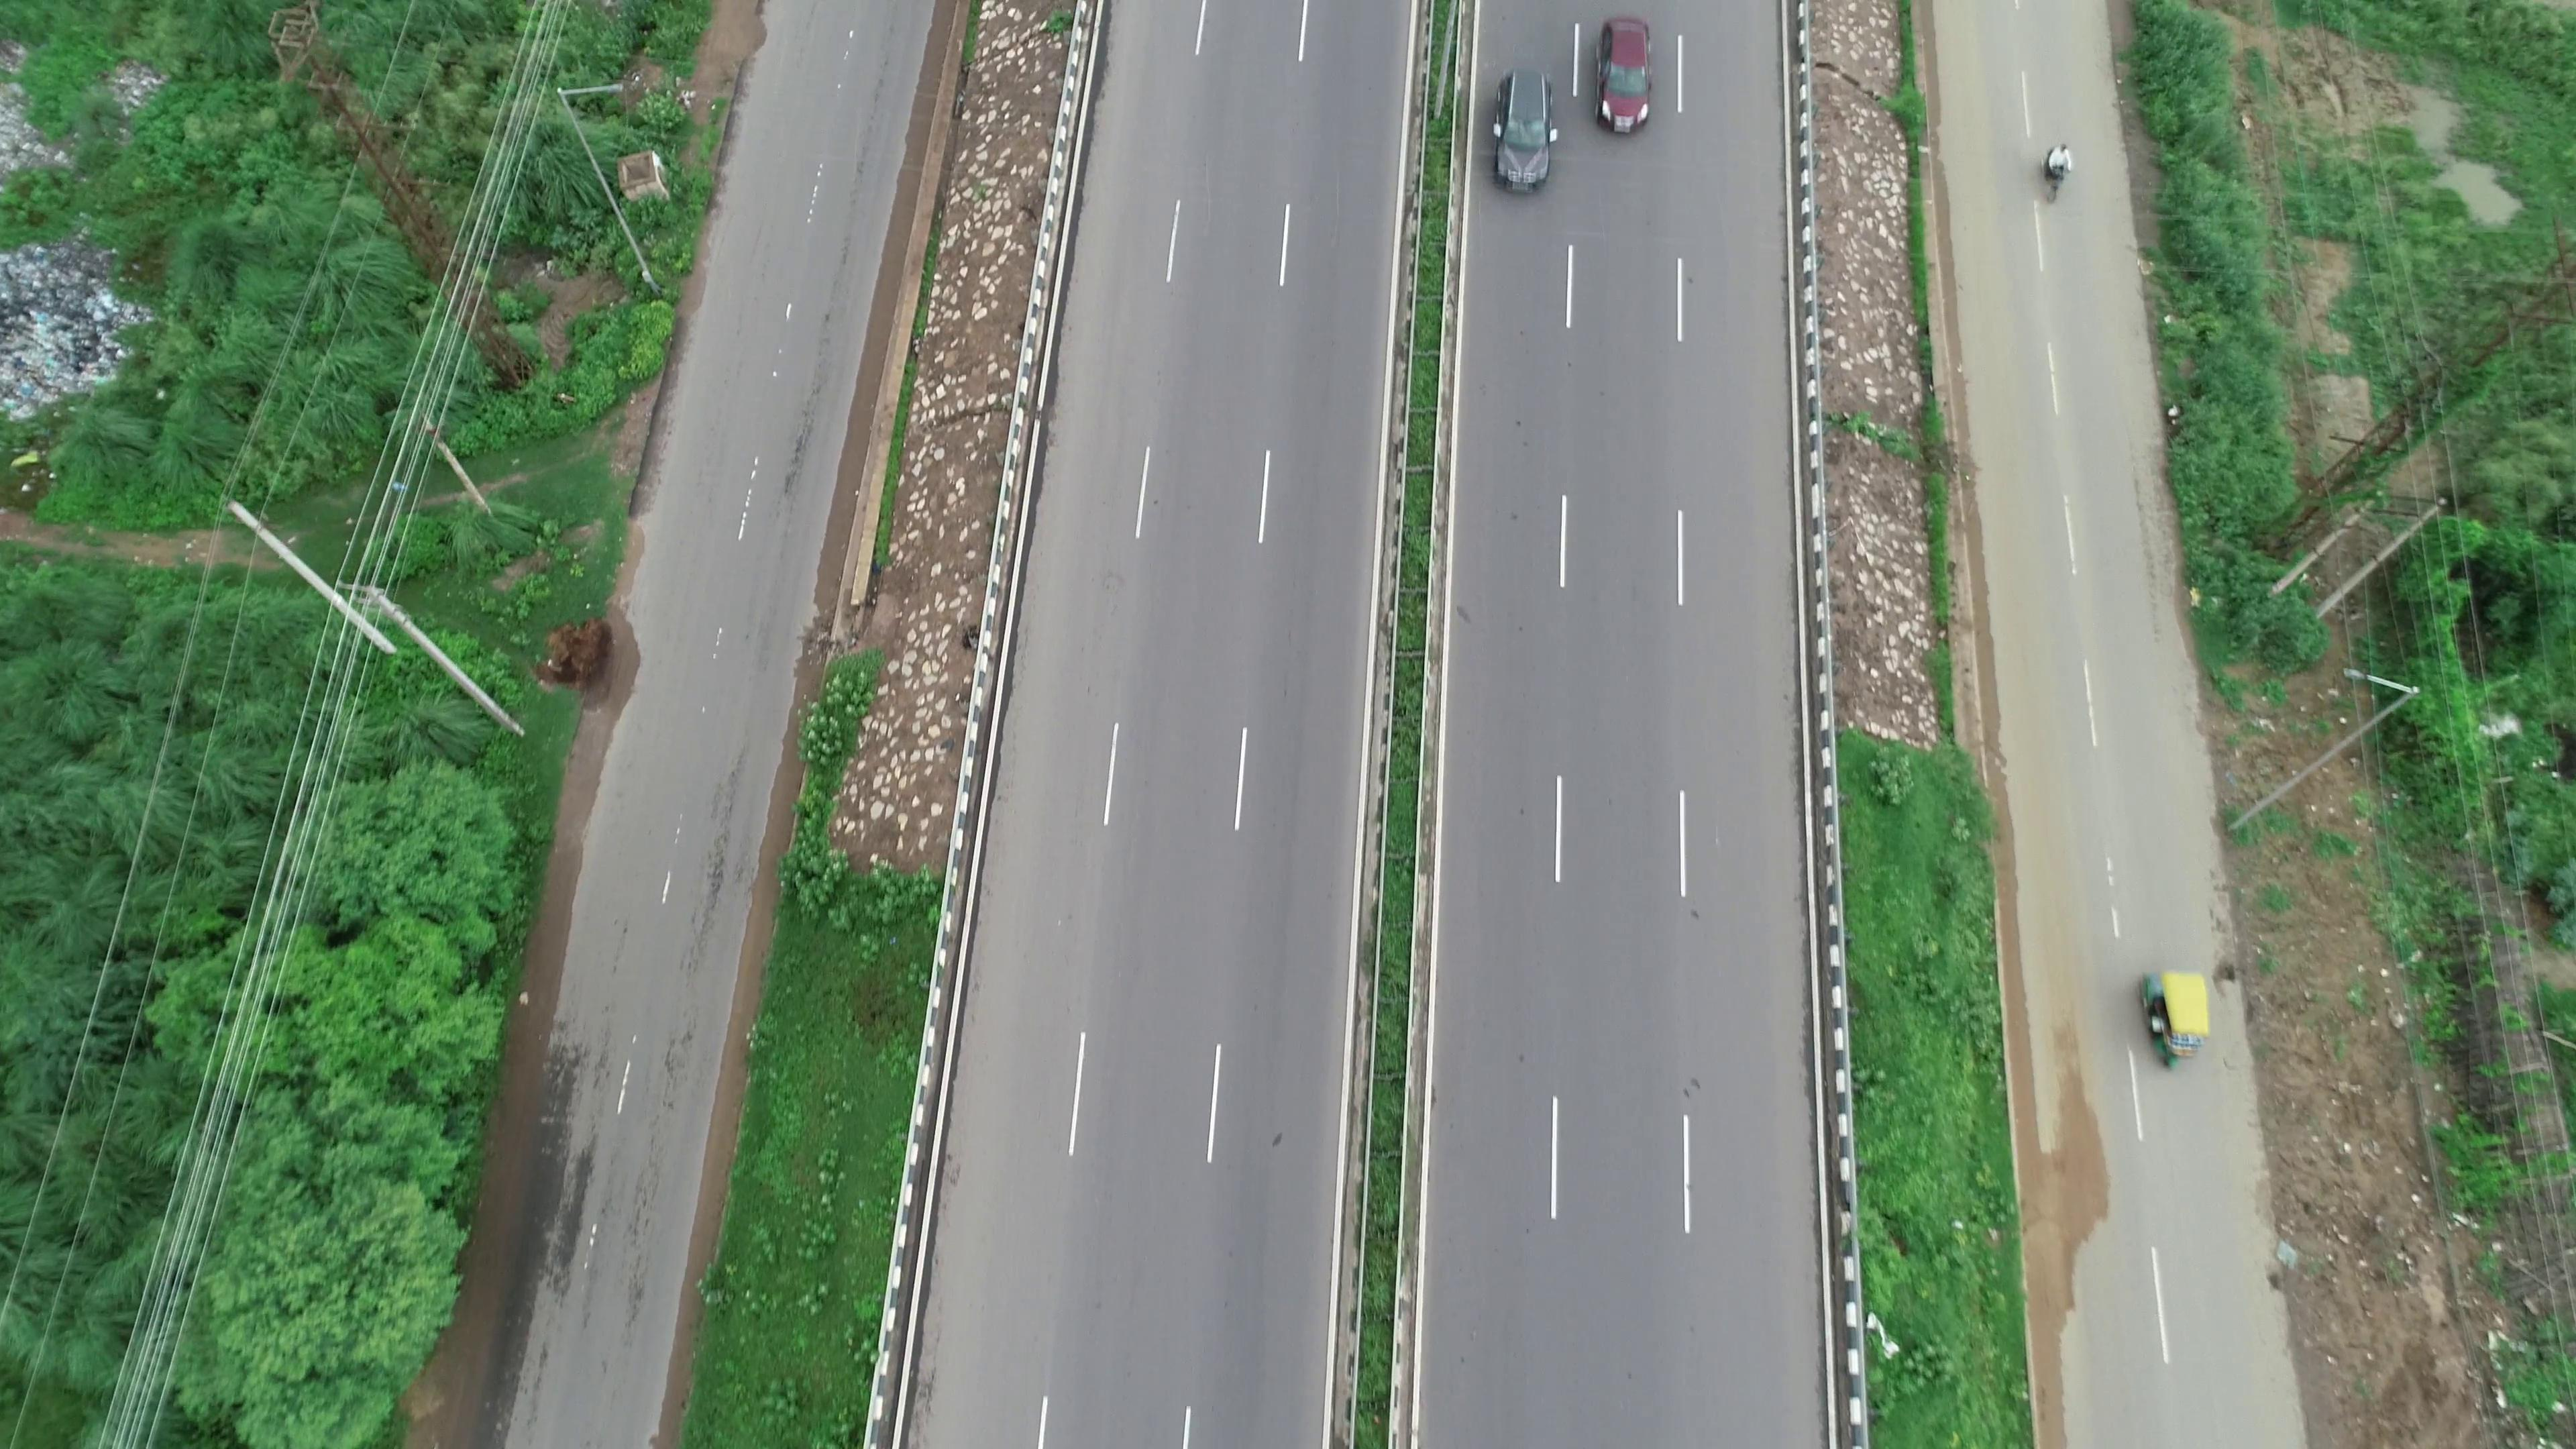Muddy_road: (2020, 941, 2132, 1318)
